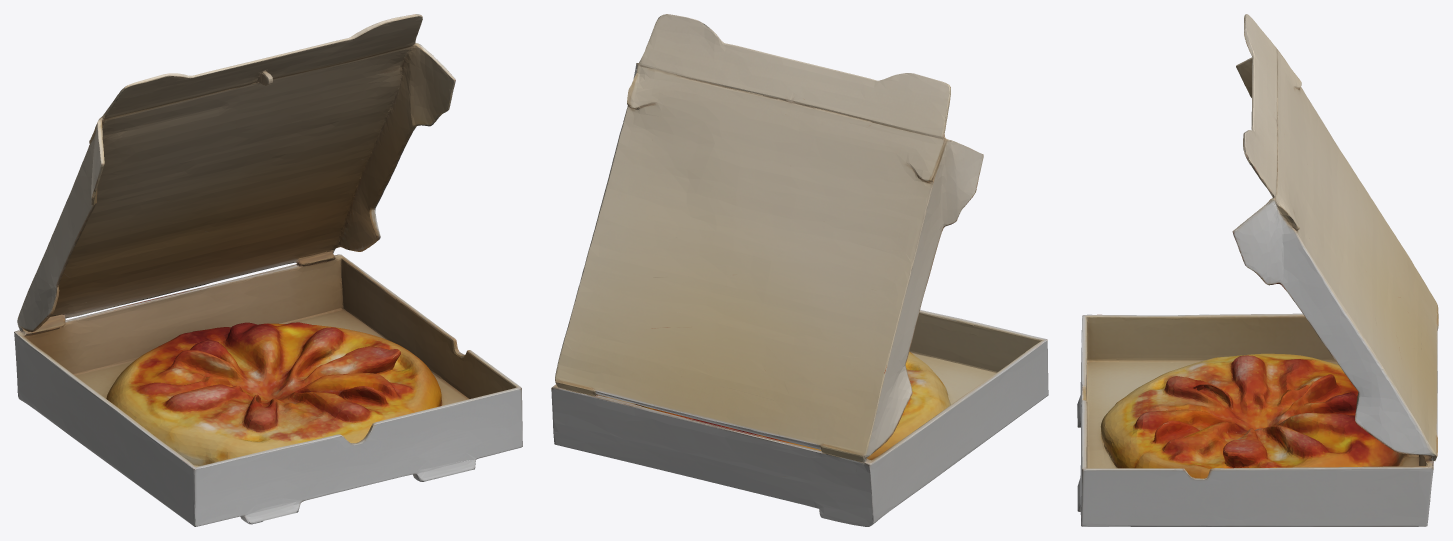
Rendered from pizzabox.glb.
3 renders of one model, left to right at view 1: azimuth 30°, elevation 25°; view 2: azimuth 150°, elevation 25°; view 3: azimuth 270°, elevation 25°, orthographic. The views are drawn at different scales.
Parts seen in each view (by area): view 1: world; view 2: world; view 3: world.
Part boxes in pixels (bbox=[...]): world: bbox=[14, 14, 522, 526]; world: bbox=[551, 14, 1048, 526]; world: bbox=[1077, 14, 1438, 526].
Bounding box in the file's own units: 0.9524 × 0.9992 × 0.8682.
Materials: 1 (1 with a texture image).
